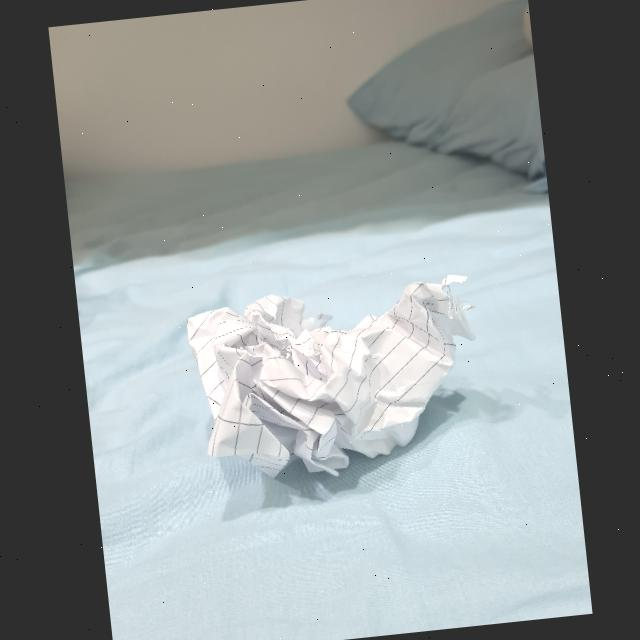trash: (180, 262, 488, 492)
